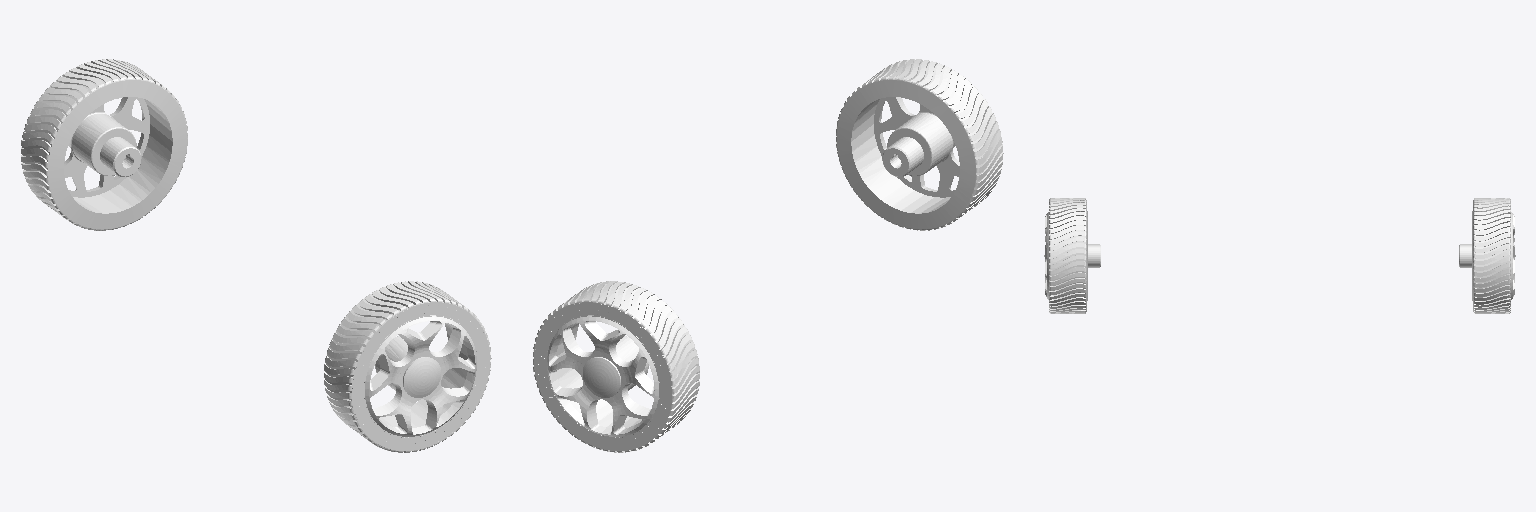
robot.urdf — david:
<?xml version="1.0"?>
<!--
  David David URDF - chassis only
  ============================================================
  Wrapper navigation frames (top), then chassis CAD content
  (chassis_root + wheels). Upper body (arms, hands, fingers)
  has been removed.

  TF layout (2026-06-18: base_link normalised to body-forward):
    map -> odom -> base -> base_link  (SLAM; base->base_link = Rz(-90deg)+z-0.275, base_link X=forward)
          |- imu_link             Rz(+90deg) from base_link
          |- laser_link           0.352m forward (+X), same orientation
          |- base_footprint       ROTATION CENTER = wheel-axle midpoint;
          |                        0.165m forward (+X), 0.4075m below=ground
          |                        (axle -0.1875 - 0.22 wheel radius) (2026-06-22)
          |- chassis_root         CAD root, Rz(-90deg) from base_link
              |- left_wheel_link / right_wheel_link  (moved +0.165m forward 2026-06-22)

  ============================================================
  DIFF-DRIVE GEOMETRY — SINGLE SOURCE OF TRUTH (edit here, keep 3 origins consistent)
  ============================================================
    wheel_x_offset = 0.165    # wheels & rotation center forward of base_link, +X
    half_track     = 0.2525   # half of 50.5cm track; wheel Y = ±half_track
    wheel_z        = -0.084   # wheel axle z in chassis_root (axle hub, unchanged)
    wheel_radius   = 0.22     # 22cm wheels (2026-06-22 hw upgrade); sets ground z
  chassis_root is Rz(-90deg) from base_link, so base_link +X = chassis_root +Y,
  base_link +Y = chassis_root -X. The wheel-axle z in base_link is
    axle_z = chassis_root_z(-0.1035) + wheel_z(-0.084) = -0.1875.
  The three origins below are DERIVED:
    left_wheel_joint  (chassis_root): xyz = [-half_track,  wheel_x_offset, wheel_z]
    right_wheel_joint (chassis_root): xyz = [ half_track,  wheel_x_offset, wheel_z]
    base_link_to_base_footprint:      xyz = [ wheel_x_offset, 0, axle_z - wheel_radius]
                                          = [ 0.165, 0, -0.4075 ]   (ground)
  NEXT diff-drive change: edit the 4 values above and re-derive these 3 origins.
  NON-URDF CONSUMER (cannot read URDF): nav2 footprint polygon in
  config/nav2_params_2d.yaml (local+global). It is expressed in base_footprint
  frame, so if wheel_x_offset changes by d, shift that polygon's X by -d.
  ============================================================

  HISTORY: base_link used to be a rotated frame and the launch aliased
  base->base_link (later base->world->base_link) because SLAM published
  map->odom->base. SLAM now publishes map->odom->base_link directly with
  base_link = standard forward frame, so the launch bridge is removed and
  base_link is coincident in orientation with base_footprint.

  These child joints were re-expressed by Rz(+90deg) from the OLD base_link
  (old: imu identity, laser/footprint Rz(-90deg), chassis_root Rz(180deg)).
  The PHYSICAL frames (laser_link, base_footprint, chassis_root, wheels) are
  byte-for-byte unchanged in space — only base_link's axes were relabelled,
  so costmap footprint / robot_base_frame / laser data are unaffected.

  CROSS-STACK: the grasp (upper-body) URDF mounts its waist (Link1) on
  base_link. base_link's orientation changed here, so the grasp side's
  base_link->Link1 must use the SAME forward convention — confirm with the
  grasp/SLAM owners that everyone agrees base_link = X-forward.

  NOTE: laser_link / chassis_root / base_footprint offsets carried over from
  the prior calibration; re-verify against the physical mount in RViz.
-->
<robot name="david">

  <!-- ============ wrapper navigation frames ============ -->

  <!-- Root: SLAM publishes map->odom->base_link DIRECTLY (2026-06-12).
       base_link is now the NORMAL body-forward frame (X=forward), coincident
       in orientation with base_footprint. No more base->world->base_link
       launch bridge. Children below were re-expressed by Rz(+90deg) from the
       old (rotated) base_link so the physical robot is byte-for-byte the same;
       only base_link's axes were relabelled to the forward convention. -->
  <link name="base_link"/>

  <!-- IMU: was identity with the OLD base_link; that frame is now +90deg yaw. -->
  <link name="imu_link"/>
  <joint name="base_link_to_imu_link" type="fixed">
    <parent link="base_link"/>
    <child  link="imu_link"/>
    <origin xyz="0 0 0" rpy="0 0 1.5707963267948966"/>
  </joint>

  <!-- LSLIDAR C16: published by lslidar driver as frame_id="laser_link".
       Now 0.352m FORWARD (+X) of base_link, same orientation. -->
  <link name="laser_link"/>
  <joint name="base_link_to_laser_link" type="fixed">
    <parent link="base_link"/>
    <child  link="laser_link"/>
    <origin xyz="0.352 0 0.1275" rpy="0 0 0"/>
  </joint>

  <!-- base_footprint: projection of the two-wheel AXLE MIDPOINT on the ground.
       This frame is the differential-drive ROTATION CENTER and is used as
       nav2's robot_base_frame everywhere. It MUST track the wheel midpoint.
       2026-06-22: wheels moved +0.165m forward (see diff-geometry block at top),
       so base_footprint moved with them: x = wheel_x_offset = 0.165 (was 0).
       z = axle_z - wheel_radius = -0.1875 - 0.22 = -0.4075 (true ground with the
       22cm wheels; was -0.25, which was stale for the old 6.25cm-radius wheels).
       Orientation coincident with base_link (X=forward). -->
  <link name="base_footprint"/>
  <joint name="base_link_to_base_footprint" type="fixed">
    <parent link="base_link"/>
    <child  link="base_footprint"/>
    <origin xyz="0.165 0 -0.4075" rpy="0 0 0"/>
  </joint>

  <!-- CAD chassis root: was Rz(pi) from old base_link; with base_link now
       +90deg, chassis_root is Rz(-90deg). z offset unchanged. -->
  <joint name="base_link_to_chassis_root" type="fixed">
    <parent link="base_link"/>
    <child  link="chassis_root"/>
    <origin xyz="0 0 -0.1035" rpy="0 0 -1.5707963267948966"/>
  </joint>

  <!-- ============ chassis CAD content ============ -->
  <link name="chassis_root">
    <inertial>
      <origin xyz="0.0260324583597855 0.0179022760034589 0.0772389796790675" rpy="0 0 0" />
      <mass value="16.6007220352047" />
      <inertia ixx="0.322365683606253" ixy="-0.00355432435118943" ixz="2.46907320009811E-05" iyy="0.302813619372029" iyz="-4.47427835668917E-05" izz="0.617038509459363" />
    </inertial>
    <visual>
      <origin xyz="0 0 0" rpy="0 0 0" />
      <geometry>
        <mesh filename="package://david_nav/meshes/zongzhuang/base_link.STL" />
      </geometry>
      <material name="">
        <color rgba="0.898039215686275 0.917647058823529 0.929411764705882 1" />
      </material>
    </visual>
    <collision>
      <origin xyz="0 0 0" rpy="0 0 0" />
      <geometry>
        <mesh filename="package://david_nav/meshes/zongzhuang/base_link.STL" />
      </geometry>
    </collision>
  </link>

  <link name="left_wheel_link">
    <inertial>
      <origin xyz="0.0215436228721596 -2.4871829294032E-06 1.96609603111576E-08" rpy="0 0 0" />
      <mass value="0.272387982807766" />
      <inertia ixx="0.000637120767161904" ixy="2.31687133017476E-09" ixz="4.28905159983964E-11" iyy="0.00035405432582222" iyz="-4.78531137075495E-11" izz="0.000354050438511622" />
    </inertial>
    <visual>
      <origin xyz="0 0 0" rpy="0 0 0" />
      <geometry>
        <mesh filename="package://david_nav/meshes/zongzhuang/left_wheel_link.STL" />
      </geometry>
      <material name="">
        <color rgba="1 1 1 1" />
      </material>
    </visual>
    <collision>
      <origin xyz="0 0 0" rpy="0 0 0" />
      <geometry>
        <mesh filename="package://david_nav/meshes/zongzhuang/left_wheel_link.STL" />
      </geometry>
    </collision>
  </link>
  <joint name="left_wheel_joint" type="revolute">
    <!-- base_link (0.165, +0.2525) -> chassis_root via Rz(-90): x=-half_track, y=+wheel_x_offset -->
    <origin xyz="-0.2525 0.165 -0.084" rpy="1.5708 0 0" />
    <parent link="chassis_root" />
    <child link="left_wheel_link" />
    <axis xyz="1 0 0" />
    <limit lower="0" upper="0" effort="0" velocity="0" />
  </joint>

  <link name="right_wheel_link">
    <inertial>
      <origin xyz="-0.0229440987977794 -2.48637469096868E-06 -2.01838018354603E-08" rpy="0 0 0" />
      <mass value="0.272387983874311" />
      <inertia ixx="0.000637120765320742" ixy="-2.31077385129403E-09" ixz="4.55453740824157E-11" iyy="0.000354054337277639" iyz="4.78235536475146E-11" izz="0.000354050440979772" />
    </inertial>
    <visual>
      <origin xyz="0 0 0" rpy="0 0 0" />
      <geometry>
        <mesh filename="package://david_nav/meshes/zongzhuang/right_wheel_link.STL" />
      </geometry>
      <material name="">
        <color rgba="1 1 1 1" />
      </material>
    </visual>
    <collision>
      <origin xyz="0 0 0" rpy="0 0 0" />
      <geometry>
        <mesh filename="package://david_nav/meshes/zongzhuang/right_wheel_link.STL" />
      </geometry>
    </collision>
  </link>
  <joint name="right_wheel_joint" type="revolute">
    <!-- base_link (0.165, -0.2525) -> chassis_root via Rz(-90): x=+half_track, y=+wheel_x_offset -->
    <origin xyz="0.2525 0.165 -0.084" rpy="1.5708 0 0" />
    <parent link="chassis_root" />
    <child link="right_wheel_link" />
    <axis xyz="-1 0 0" />
    <limit lower="0" upper="0" effort="0" velocity="0" />
  </joint>

</robot>

--- Facts derived from the render (not from the file) ---
Views: 3 orthographic renders of the robot side by side, from view 1: azimuth 30°, elevation 25°; view 2: azimuth 150°, elevation 25°; view 3: azimuth 270°, elevation 25°.
Model david with 7 links and 6 joints (2 revolute, 4 fixed), rooted at base_link, posed all joints at 0.
Visible links, largest first — view 1: right_wheel_link, left_wheel_link; view 2: right_wheel_link, left_wheel_link; view 3: left_wheel_link, right_wheel_link.
Boxes of the visible links, x1,y1,x2,y2 form: right_wheel_link: (324,281,491,452); left_wheel_link: (21,59,187,230); right_wheel_link: (836,59,1003,230); left_wheel_link: (533,281,699,452); left_wheel_link: (1459,198,1515,313); right_wheel_link: (1044,198,1100,313).
Bounding box of the posed robot: 0.125 × 0.5092 × 0.125 m (x, y, z).
Meshes: 3 distinct files referenced, 2 mesh visuals loaded (2 binary STL); not drawn: 1 (reference not matched to a file when rendering).
